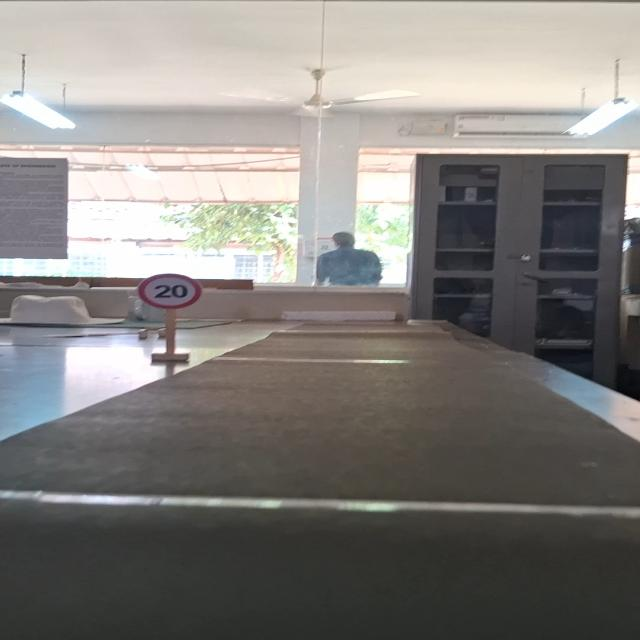Speed20: (135, 270, 204, 312)
